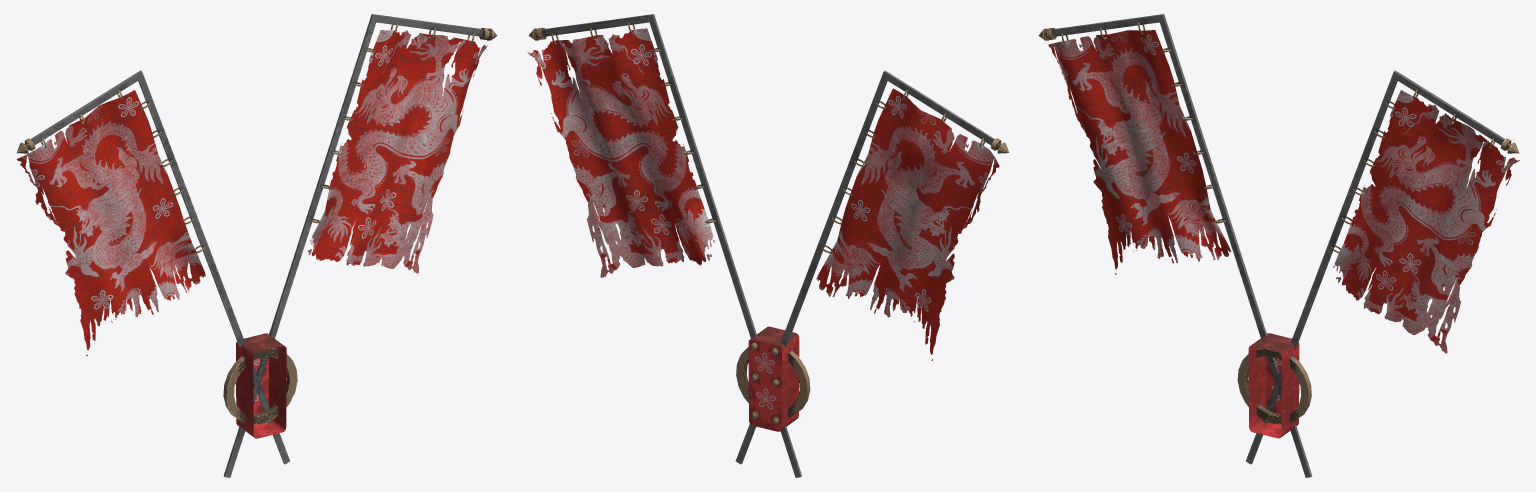
File: BACK_BANNERS.fbx
3 views of the same model, side by side, from view 1: azimuth 30°, elevation 25°; view 2: azimuth 150°, elevation 25°; view 3: azimuth 330°, elevation 25° (orthographic).
Visible parts, largest first — view 1: BACK_BANNERS; view 2: BACK_BANNERS; view 3: BACK_BANNERS.
Boxes of the visible parts, x1=… form: BACK_BANNERS: x1=16, y1=14, x2=497, y2=477; BACK_BANNERS: x1=527, y1=14, x2=1009, y2=477; BACK_BANNERS: x1=1038, y1=14, x2=1519, y2=477.
Size of the model in its own units: 0.1094 by 0.093 by 0.0077.
